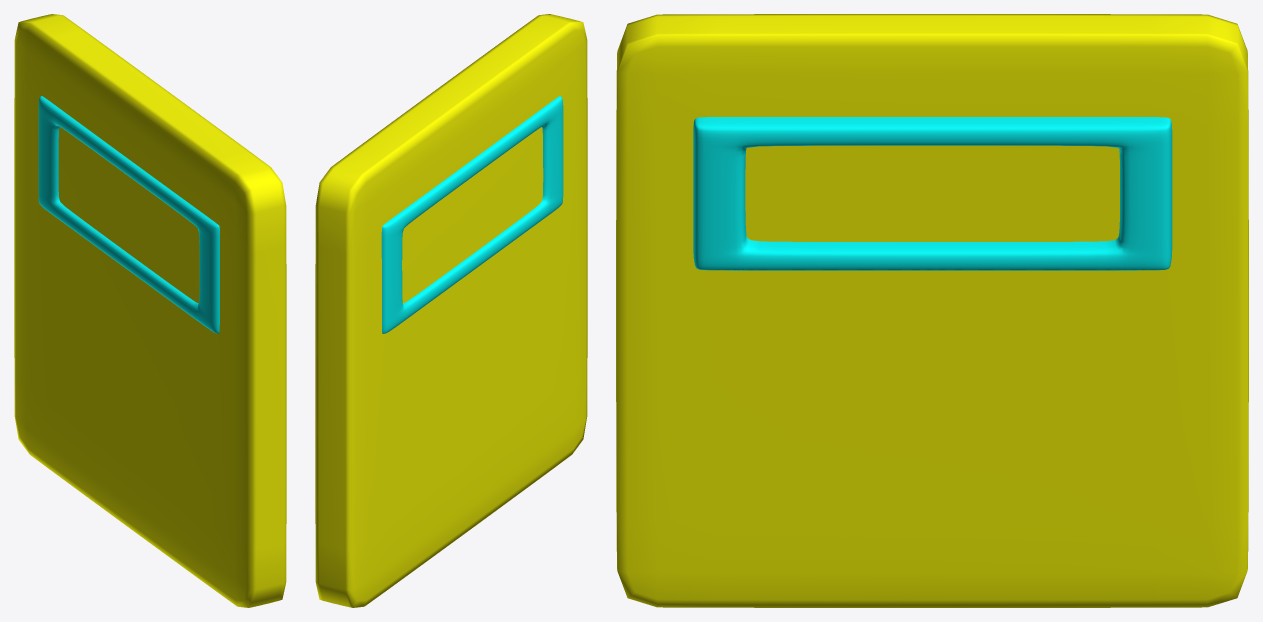
3 renders of one model, left to right at view 1: azimuth 30°, elevation 25°; view 2: azimuth 150°, elevation 25°; view 3: azimuth 270°, elevation 25°, orthographic. The views are drawn at different scales.
Visible parts, largest first — view 1: polySurface968; view 2: polySurface968; view 3: polySurface968.
Part boxes in pixels (<box>): polySurface968: <box>14,14,286,607</box>; polySurface968: <box>315,14,587,607</box>; polySurface968: <box>616,14,1248,607</box>.
Size of the model in its own units: 0.1498 by 0.9994 by 0.9994.
